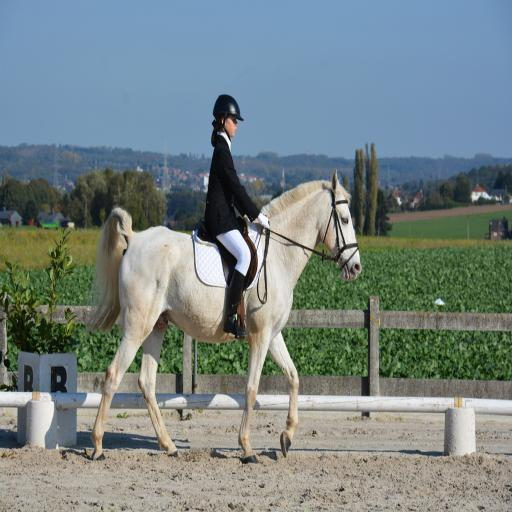horse: (90, 168, 362, 464)
